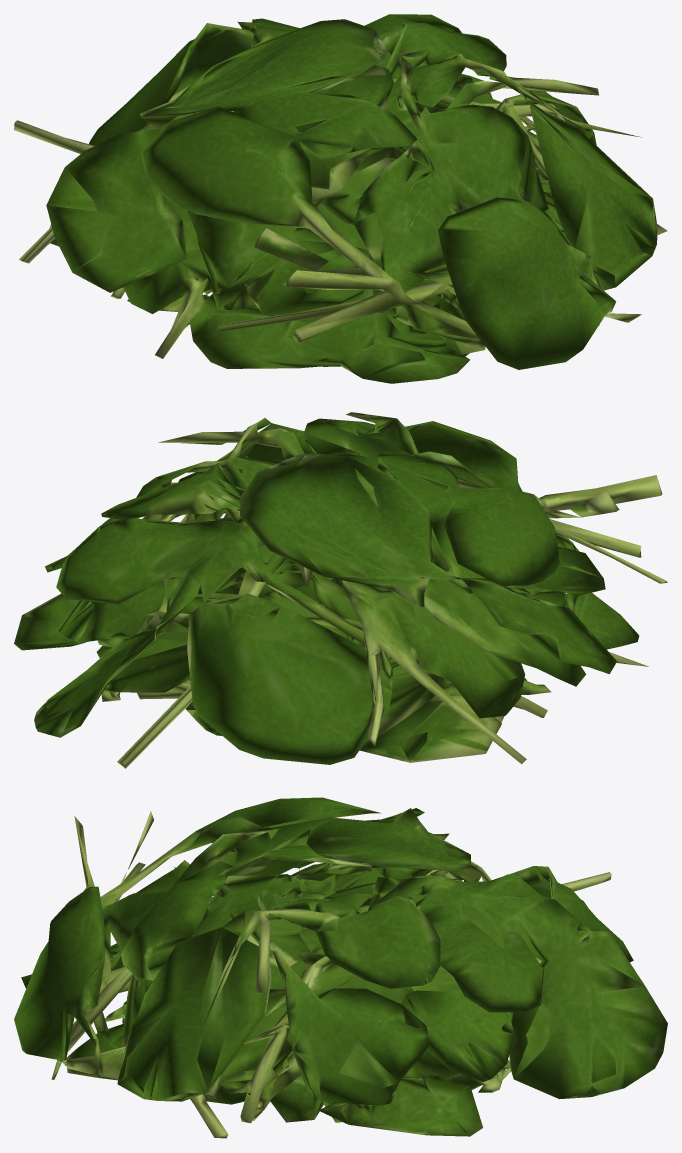
Rendered from Espinaca_Cruda.fbx.
The picture shows the model from 3 angles, top to bottom: view 1: azimuth 30°, elevation 25°; view 2: azimuth 150°, elevation 25°; view 3: azimuth 270°, elevation 25°; orthographic projection. The views are drawn at different scales.
Visible parts, largest first — view 1: Mesh_0; view 2: Mesh_0; view 3: Mesh_0.
Part boxes in pixels (x1,y1,x2,y2): Mesh_0: (14,14,667,383); Mesh_0: (14,412,667,768); Mesh_0: (14,797,667,1138).
Size of the model in its own units: 172 by 68.79 by 189.
Materials: 1 (1 with a texture image).
